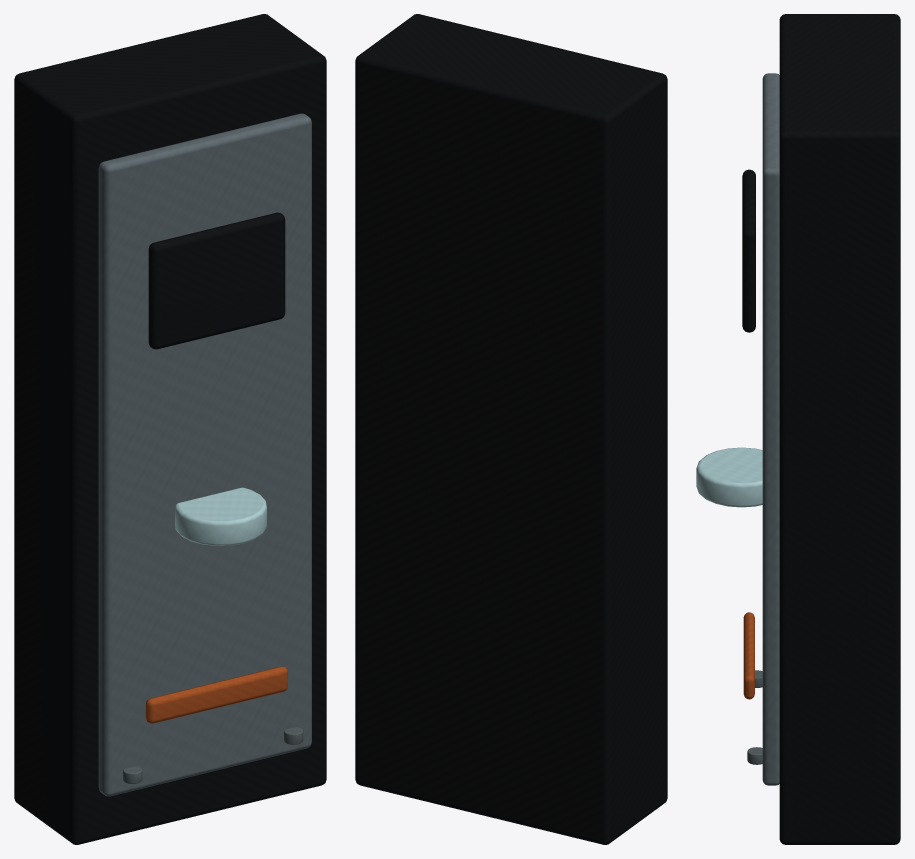
Rendered from ElevatorCallPanel.fbx.
3 views of the same model, side by side, from view 1: azimuth 30°, elevation 25°; view 2: azimuth 150°, elevation 25°; view 3: azimuth 270°, elevation 25° (orthographic). The views are drawn at different scales.
Parts seen in each view (by area): view 1: ElevatorCallPanel_Mesh; view 2: ElevatorCallPanel_Mesh; view 3: ElevatorCallPanel_Mesh.
Boxes of the visible parts, x1=… form: ElevatorCallPanel_Mesh: x1=14, y1=14, x2=326, y2=844; ElevatorCallPanel_Mesh: x1=355, y1=14, x2=667, y2=844; ElevatorCallPanel_Mesh: x1=696, y1=14, x2=900, y2=844.
Bounding box in the file's own units: 38 × 104 × 27.
